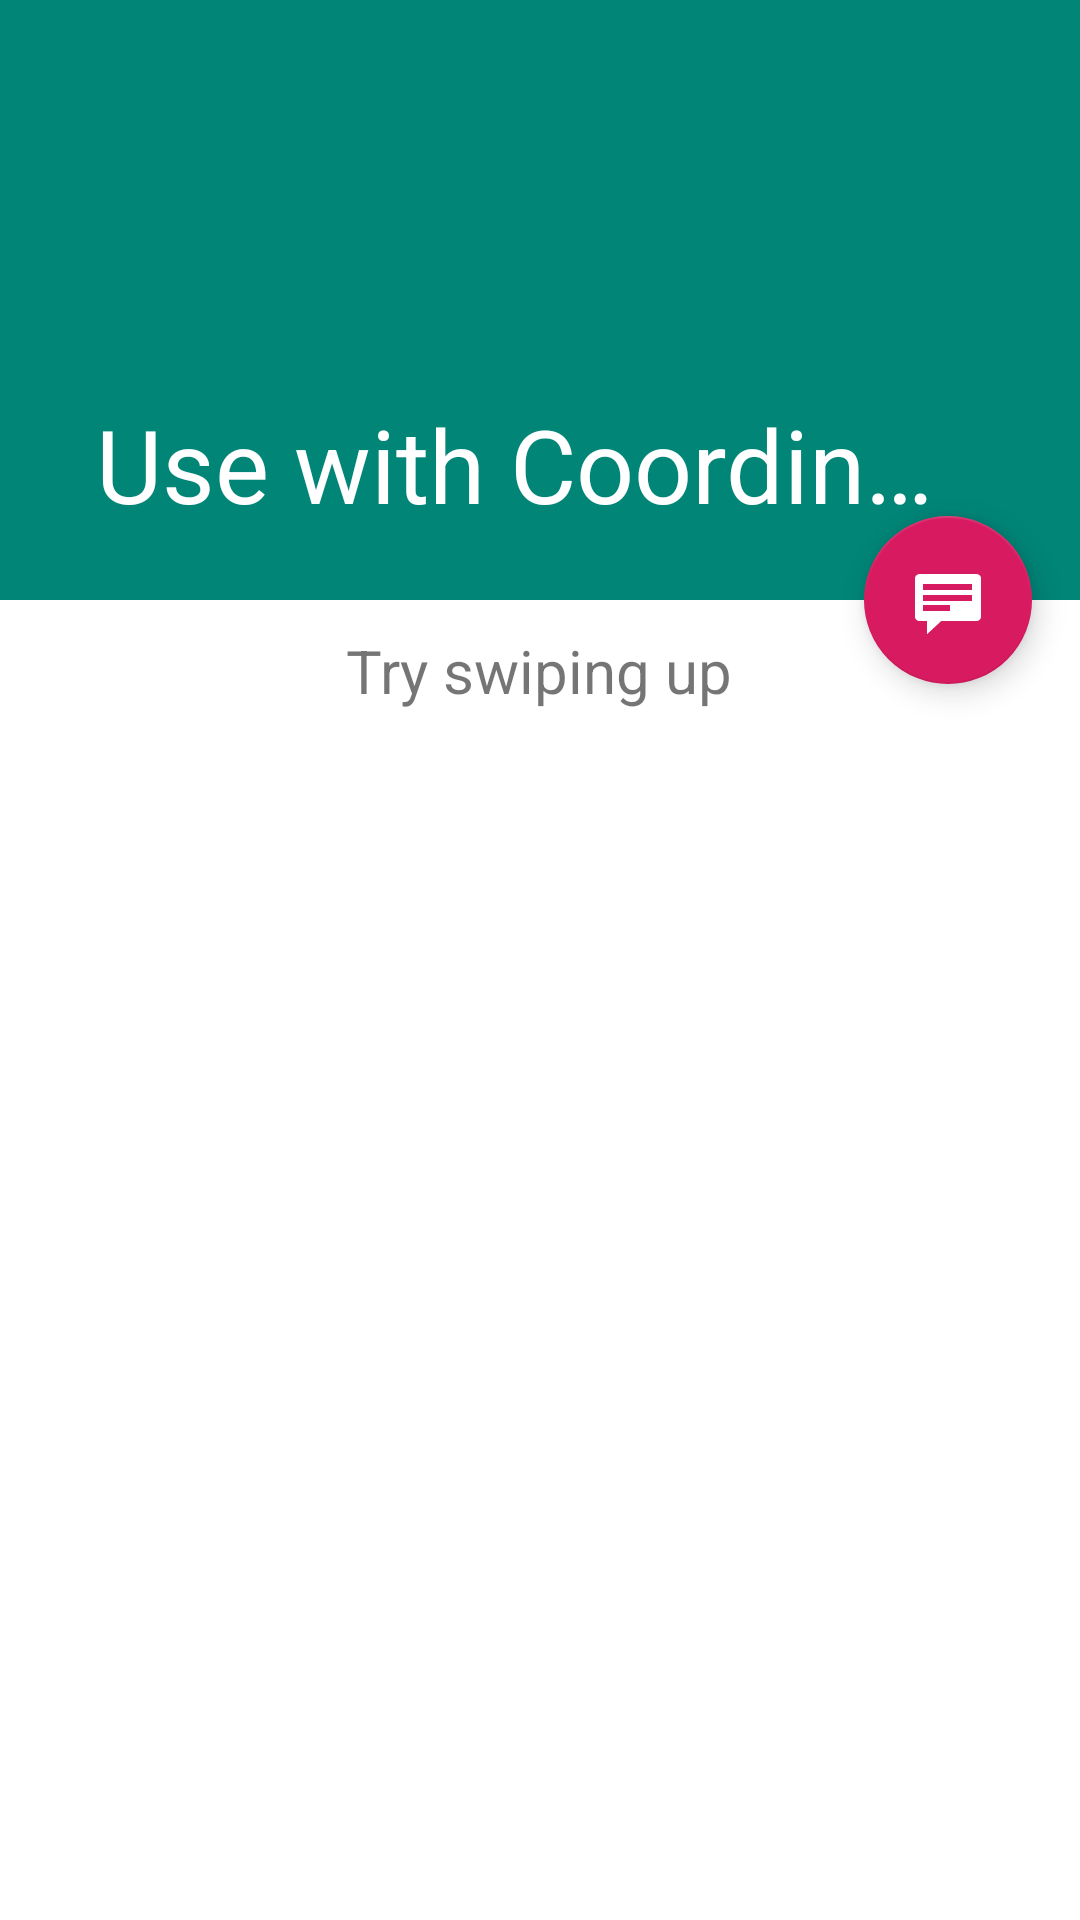

Icons on this 1080w x 1920h Android screen, each with the point to tap as (x=x, y=y):
chat: (x=948, y=600)
